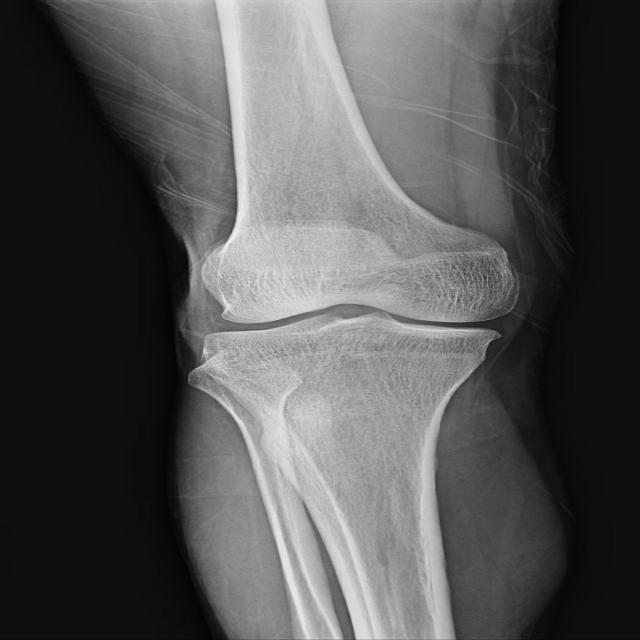osteo: (201, 235, 520, 364)
